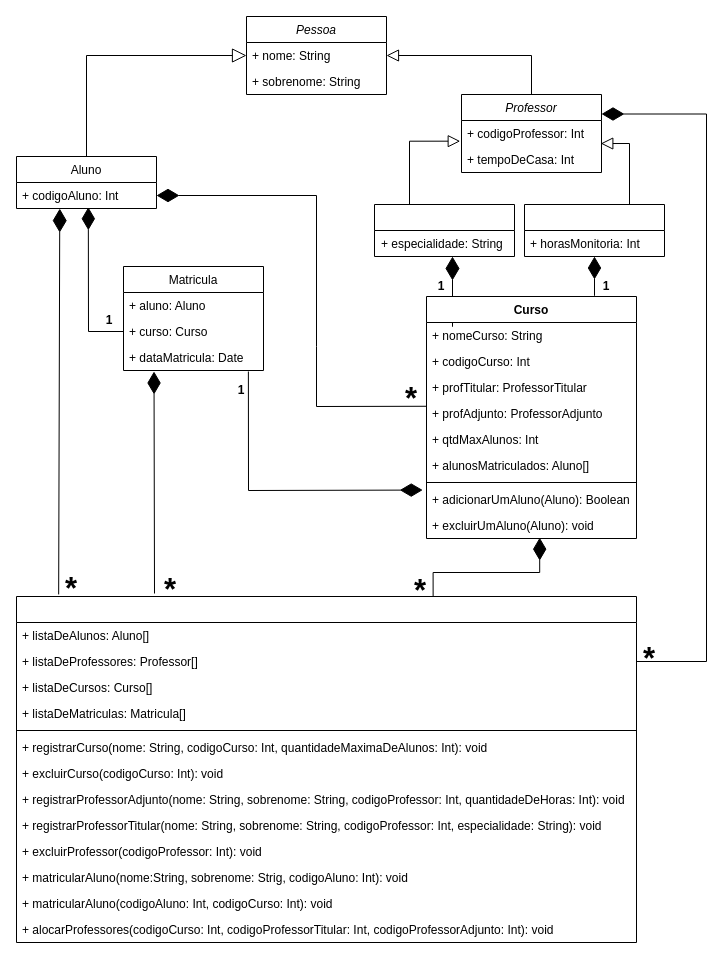
The diagram is 723 pixels wide and 959 high, and some of its shapes have lost their labels. The box of each missing label's shape, as (x1, y1, x2, y2) in pixels:
DigitalHouseManager: (16, 596, 636, 942)
ProfessorAdjunto: (524, 204, 664, 256)
ProfessorTitular: (374, 204, 514, 256)
